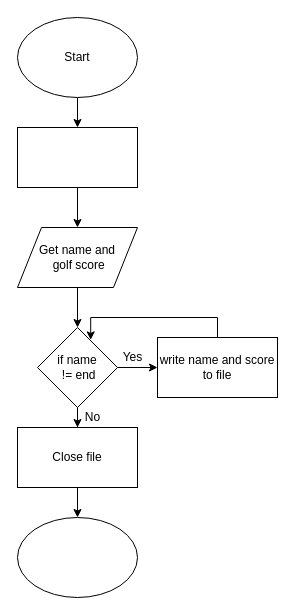
Image size: 295x615. Some labels were removed from this diagram. The shapes that lost their labels are listed below. From the top down, each one's box as (x1, y1, x2, y2) in pixels, then its label:
(16, 126, 138, 188): open file
(16, 516, 138, 598): End
